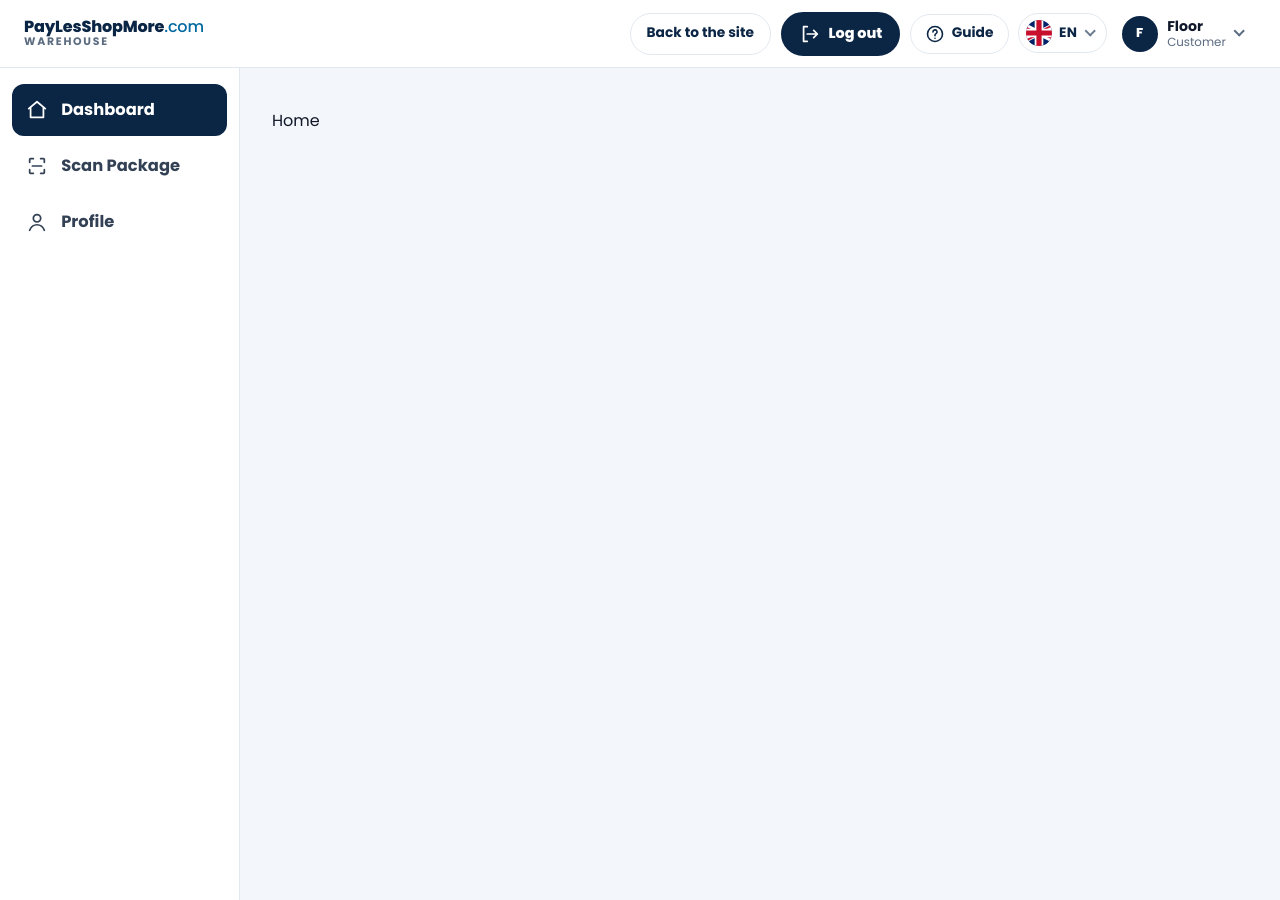
Test: the warehouse tour › opens again from the Guide button
Click the button "Guide" at (959, 34), box top-left (910, 14), bottom-right (1009, 54)
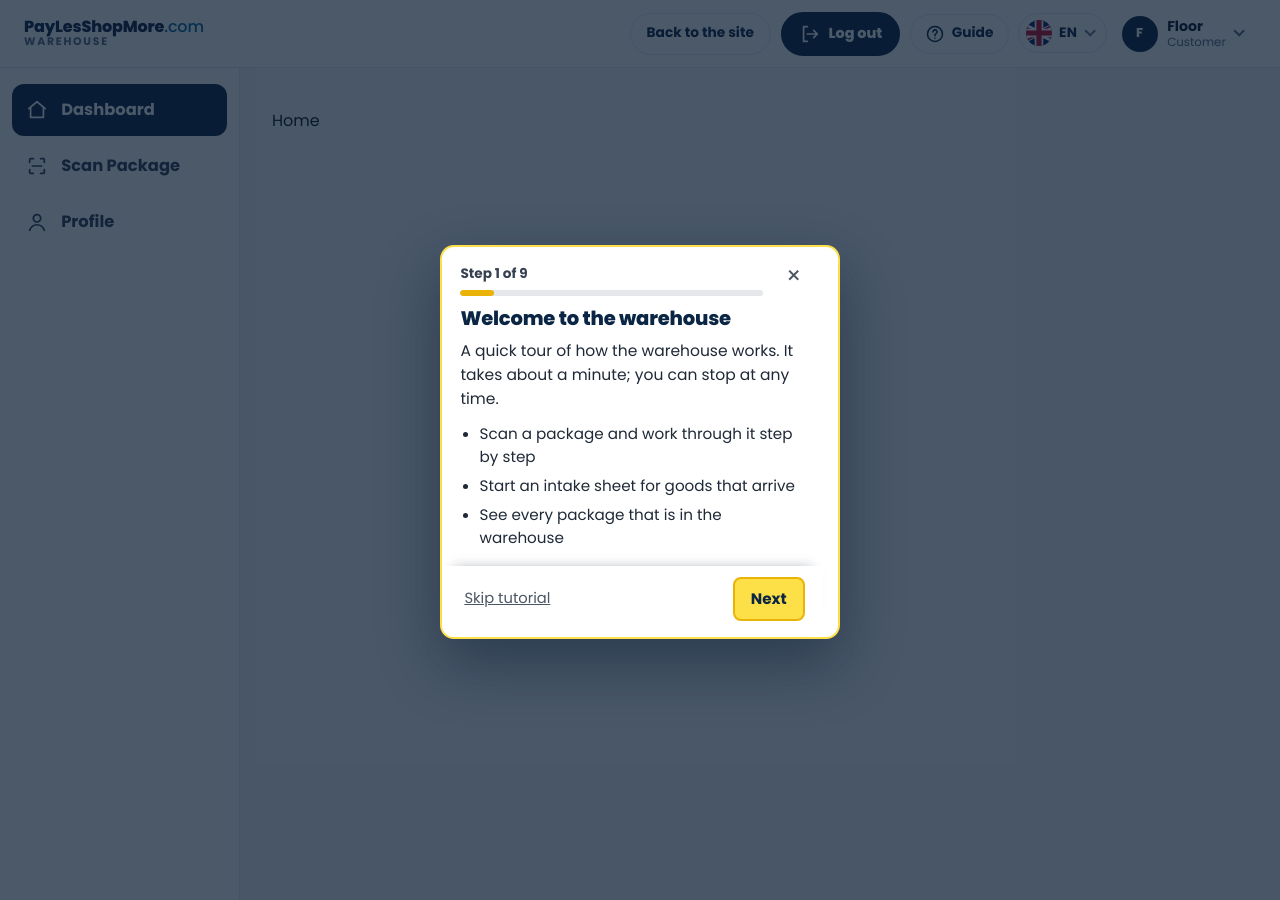
Expected: the heading "Welcome to the warehouse" is shown, top-left (460, 305), bottom-right (731, 332)
